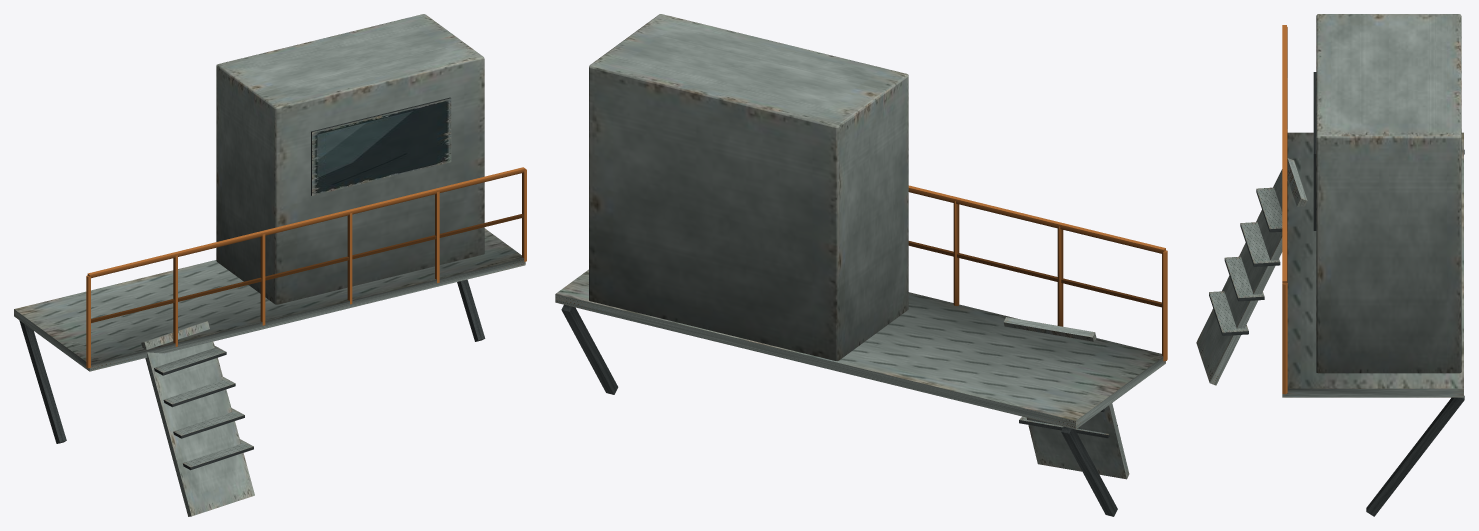
The model's file is catwalk_office.glb.
3 views of the same model, side by side, from view 1: azimuth 30°, elevation 25°; view 2: azimuth 150°, elevation 25°; view 3: azimuth 270°, elevation 25° (orthographic). The views are drawn at different scales.
Visible parts, largest first — view 1: CatwalkOffice; view 2: CatwalkOffice; view 3: CatwalkOffice.
Part boxes in pixels (<box>): CatwalkOffice: <box>14,14,526,516</box>; CatwalkOffice: <box>555,14,1167,516</box>; CatwalkOffice: <box>1196,14,1464,516</box>.
Bounding box in the file's own units: 5.05 × 3.74 × 2.21.
2 materials, 1 textured.
